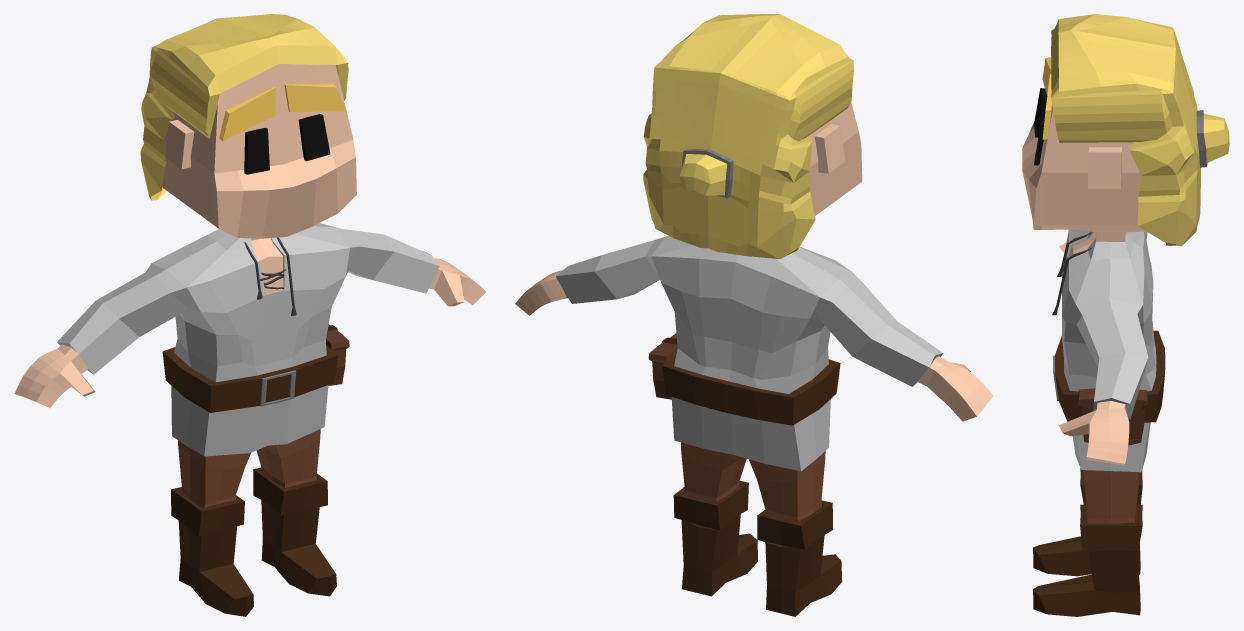
The model's file is Joe_Basic.fbx.
3 views of the same model, side by side, from view 1: azimuth 30°, elevation 25°; view 2: azimuth 150°, elevation 25°; view 3: azimuth 270°, elevation 25° (orthographic).
Parts seen in each view (by area): view 1: Joe_Basic; view 2: Joe_Basic; view 3: Joe_Basic.
Boxes of the visible parts, x1=… form: Joe_Basic: x1=14, y1=14, x2=485, y2=616; Joe_Basic: x1=515, y1=14, x2=993, y2=616; Joe_Basic: x1=1022, y1=14, x2=1229, y2=616.
Bounding box in the file's own units: 337 × 393 × 132.
